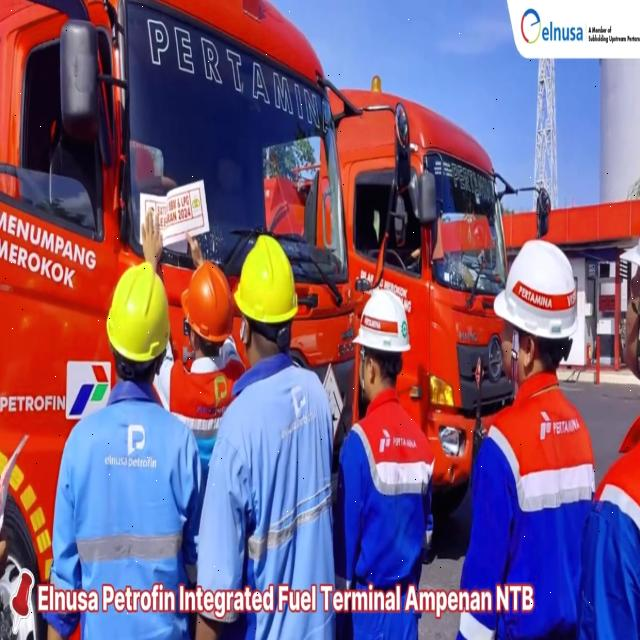Hardhat: (494, 241, 577, 336), (110, 266, 172, 360), (234, 240, 296, 318), (181, 269, 233, 343), (354, 294, 411, 348), (620, 176, 640, 292)
No Glove: (191, 610, 219, 640), (142, 218, 160, 264), (0, 524, 9, 612), (45, 612, 71, 640), (187, 238, 208, 266), (0, 475, 8, 518)
Overall Suit: (452, 366, 589, 640), (333, 383, 430, 640), (576, 387, 640, 640)
Strapped: (510, 324, 519, 379), (636, 274, 640, 360), (357, 347, 365, 388)
